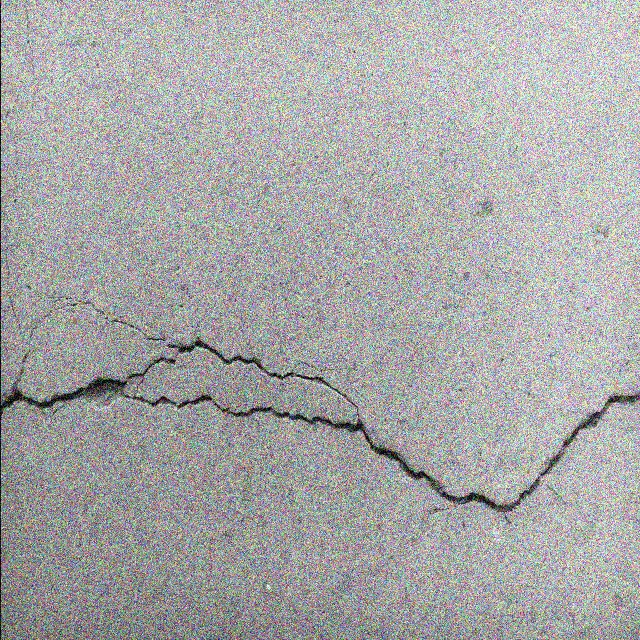SurfaceCrack: (1, 275, 640, 546)
